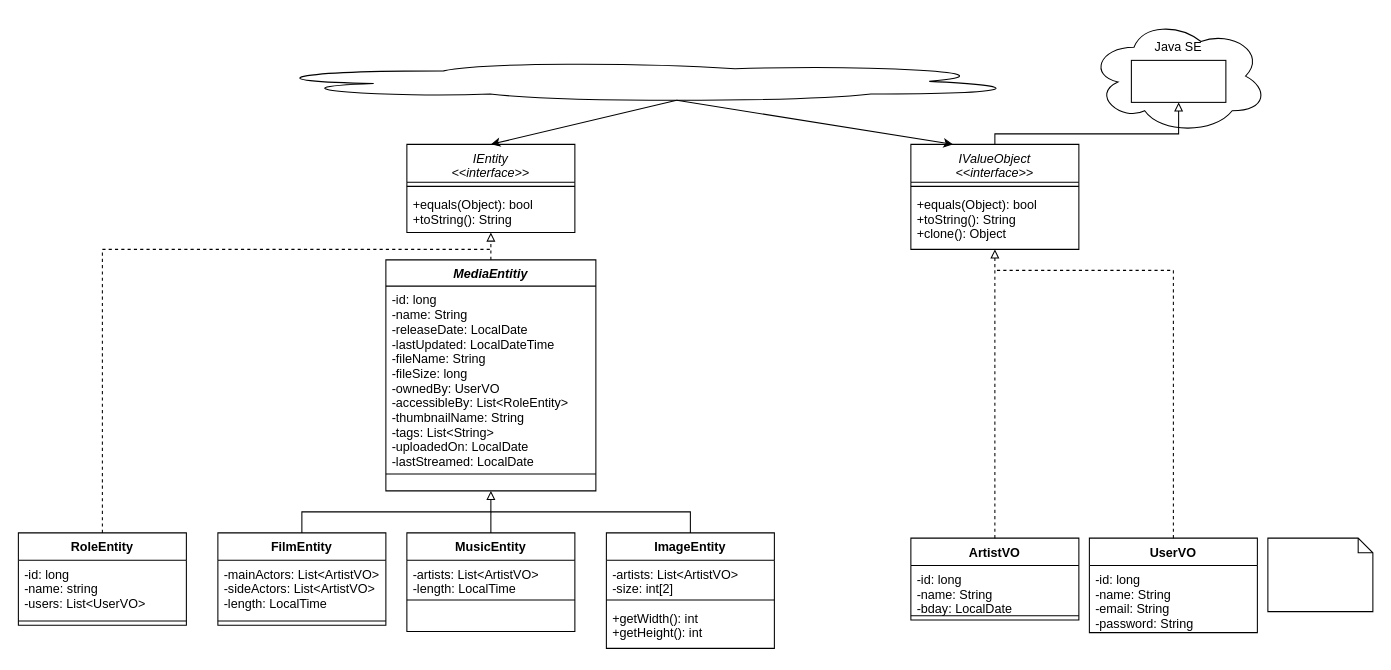
This 1391x670 diagram has some shape labels left out. The shapes that lost their labels are listed below. From the top down, each one's centre as x and y in pixels, then its label:
(637,80): HomeStream (other clases)
(1178,80): Cloneable <<interface>>
(1320,574): UserVO: Store password as hash (obviously)
